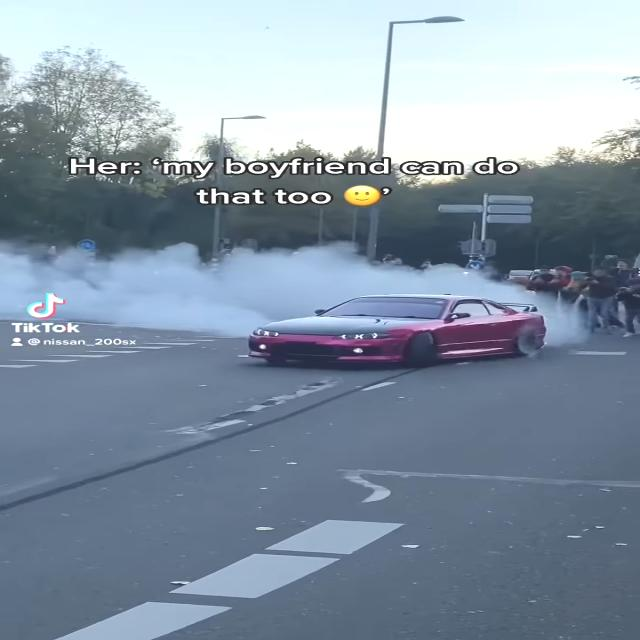car: (240, 293, 554, 371)
